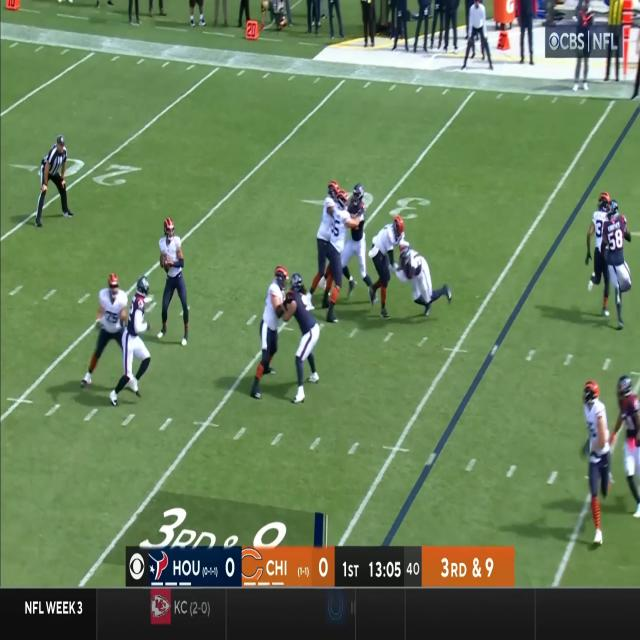football: (162, 255, 170, 275)
players: (578, 378, 618, 545), (249, 267, 293, 395), (84, 273, 129, 392), (114, 274, 153, 406), (154, 221, 193, 351), (282, 274, 321, 402), (598, 200, 634, 329), (394, 240, 452, 320), (308, 180, 343, 305), (361, 216, 402, 320), (326, 192, 354, 324), (617, 376, 640, 526), (345, 184, 372, 308), (588, 192, 613, 318)
